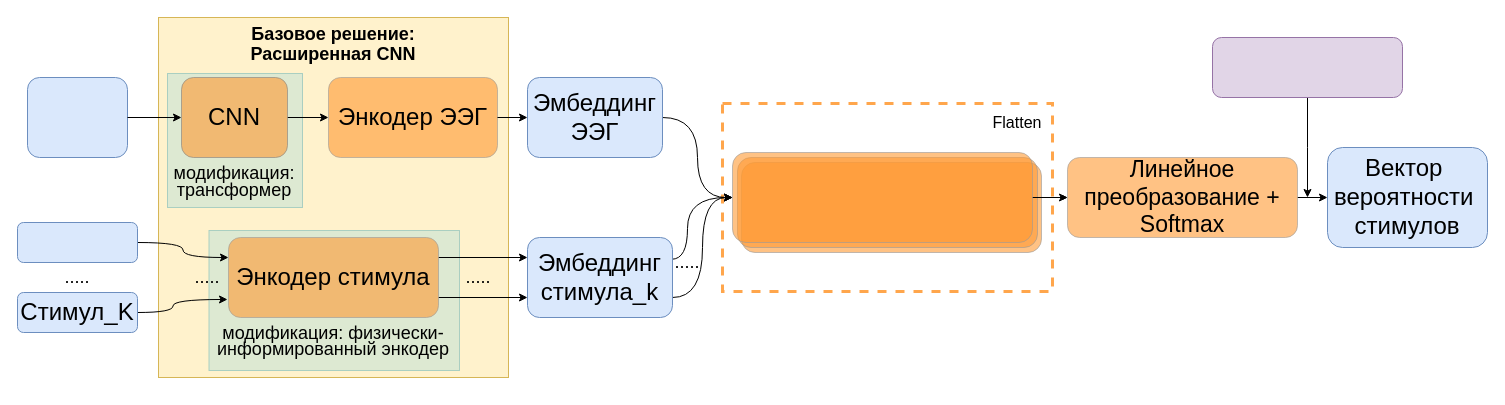
This 1505x405 diagram has some shape labels left out. Each missing label, with the box of its shape:
CosSim(Эмбеддинг ЭЭГ, Эмбеддинг стимула_k): (732, 152, 1032, 242)
Минимизация кросс-энтропии: (1212, 36, 1402, 98)
Стимул_1: (16, 222, 138, 262)
ЭЭГ: (26, 76, 128, 158)
